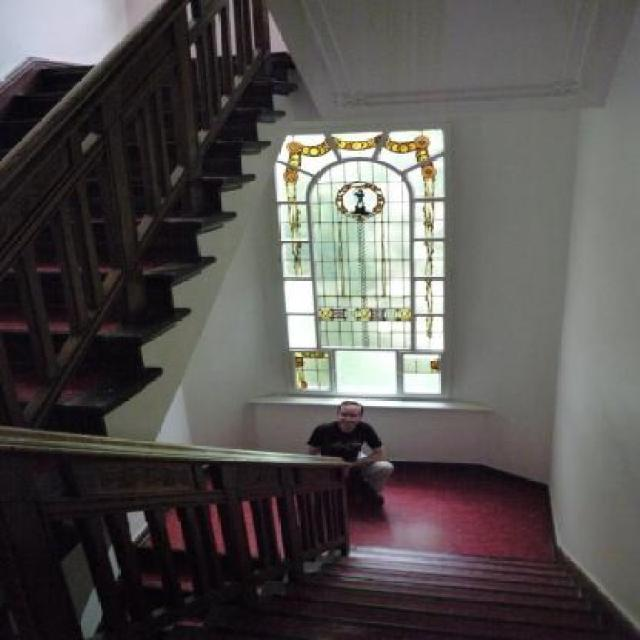stair: (0, 0, 638, 638), (162, 540, 626, 640)
